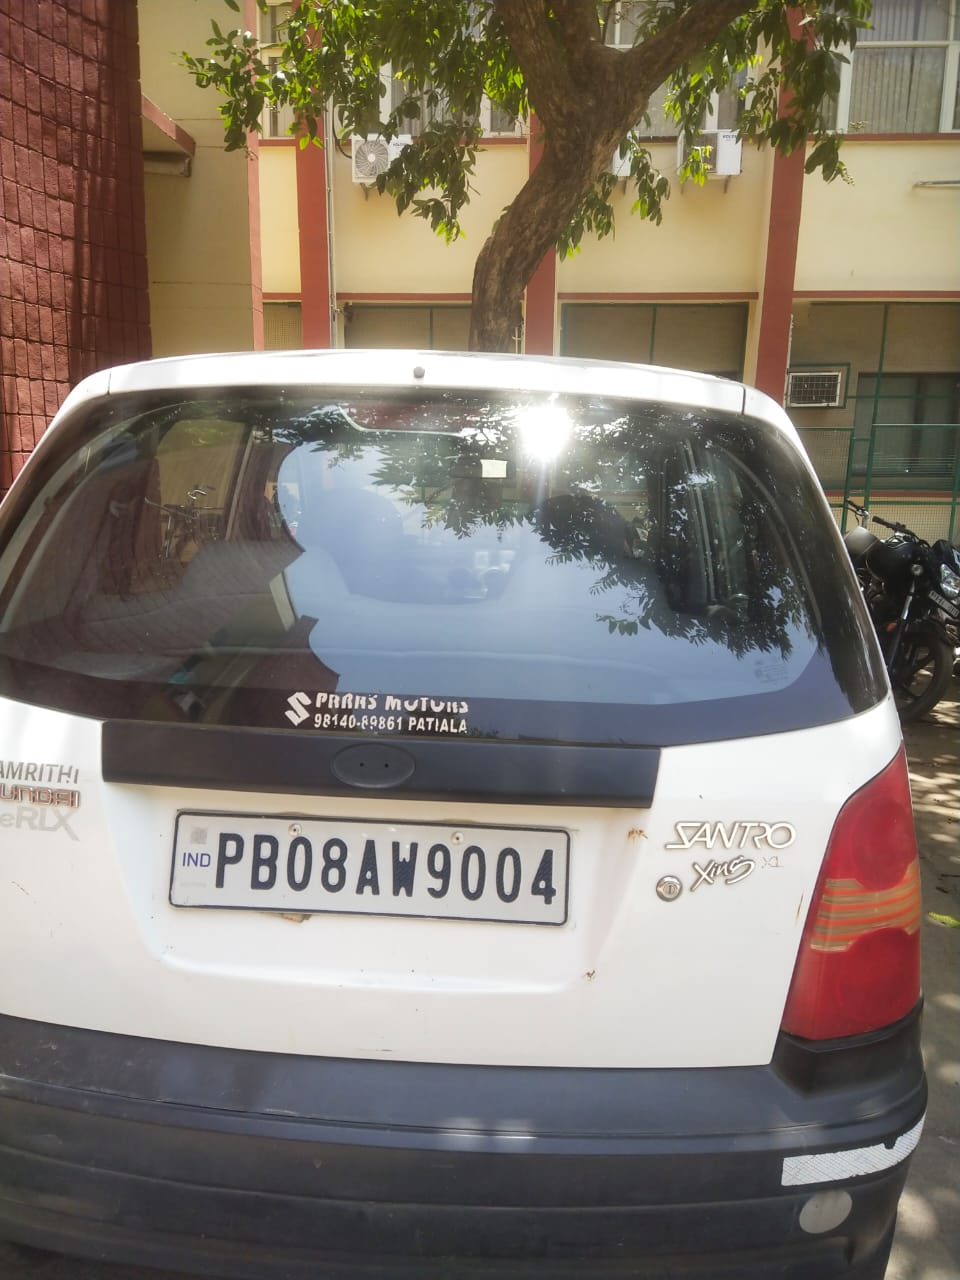license plate: (170, 812, 568, 923)
